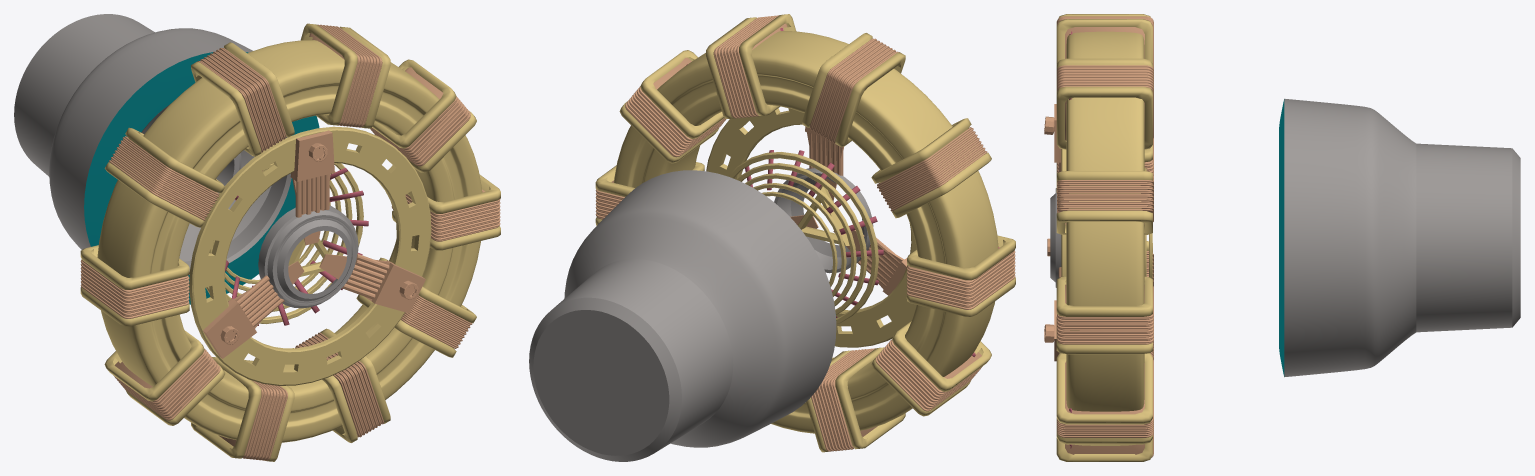
The model's file is arc-reactor.glb.
3 views of the same model, side by side, from view 1: azimuth 30°, elevation 25°; view 2: azimuth 150°, elevation 25°; view 3: azimuth 270°, elevation 25° (orthographic).
Parts seen in each view (by area): view 1: EMRchamber, Cylinder, solenoid.001, PlasticHolder.008, HOleWheel, Holer, CenterBlock, CoolingBlok, Support, Torus.001; view 2: Cylinder, EMRchamber, solenoid.001, PlasticHolder.008, CoolingBlok, HOleWheel, Holer, CenterBlock, Support, Torus.001; view 3: Cylinder, EMRchamber, PlasticHolder.008, solenoid.001, Holer, CenterBlock.
Part boxes in pixels (x1=…): EMRchamber: x1=97, y1=40, x2=482, y2=442; Cylinder: x1=14, y1=14, x2=319, y2=304; solenoid.001: x1=80, y1=24, x2=500, y2=460; PlasticHolder.008: x1=80, y1=23, x2=500, y2=461; HOleWheel: x1=189, y1=126, x2=431, y2=385; Holer: x1=203, y1=130, x2=425, y2=358; CenterBlock: x1=258, y1=205, x2=358, y2=308; CoolingBlok: x1=206, y1=163, x2=363, y2=323; Support: x1=225, y1=168, x2=368, y2=325; Torus.001: x1=288, y1=239, x2=328, y2=276; Cylinder: x1=529, y1=170, x2=836, y2=461; EMRchamber: x1=614, y1=31, x2=998, y2=433; solenoid.001: x1=595, y1=15, x2=1015, y2=451; PlasticHolder.008: x1=595, y1=14, x2=1015, y2=452; CoolingBlok: x1=728, y1=152, x2=878, y2=324; HOleWheel: x1=706, y1=108, x2=916, y2=347; Holer: x1=790, y1=126, x2=907, y2=295; CenterBlock: x1=774, y1=168, x2=873, y2=273; Support: x1=745, y1=150, x2=883, y2=317; Torus.001: x1=798, y1=186, x2=849, y2=245; Cylinder: x1=1279, y1=98, x2=1520, y2=377; EMRchamber: x1=1066, y1=31, x2=1144, y2=445; PlasticHolder.008: x1=1056, y1=14, x2=1152, y2=461; solenoid.001: x1=1057, y1=16, x2=1153, y2=457; Holer: x1=1044, y1=104, x2=1061, y2=361; CenterBlock: x1=1050, y1=188, x2=1061, y2=287.
Bounding box in the file's own units: 1.75 × 1.72 × 1.87.
